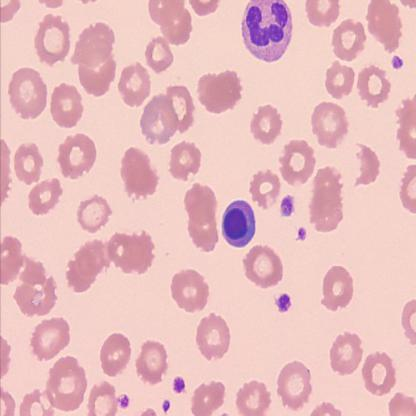NRC: (220, 199, 257, 250)
